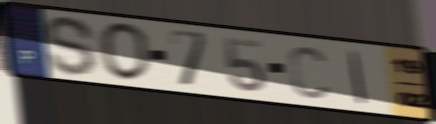5: (221, 35, 268, 94)
7: (168, 27, 208, 89)
C: (287, 43, 330, 101)
I: (347, 48, 369, 107)
O: (97, 20, 154, 84)
S: (42, 13, 100, 78)
